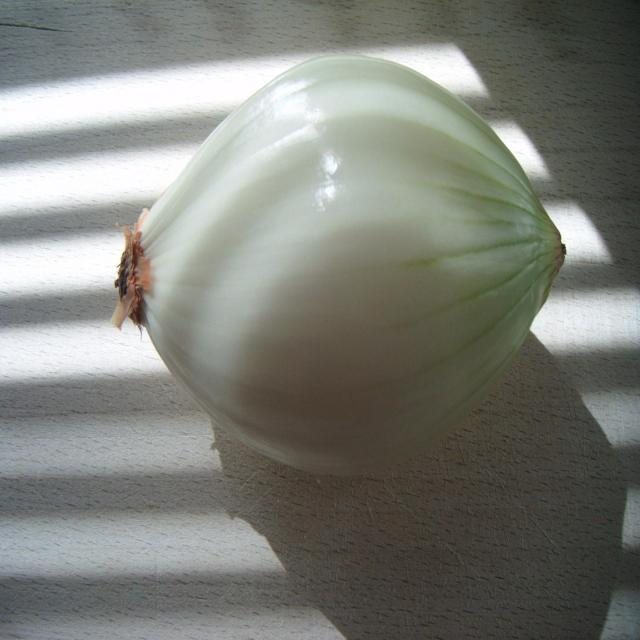Onion: (116, 49, 569, 479)
